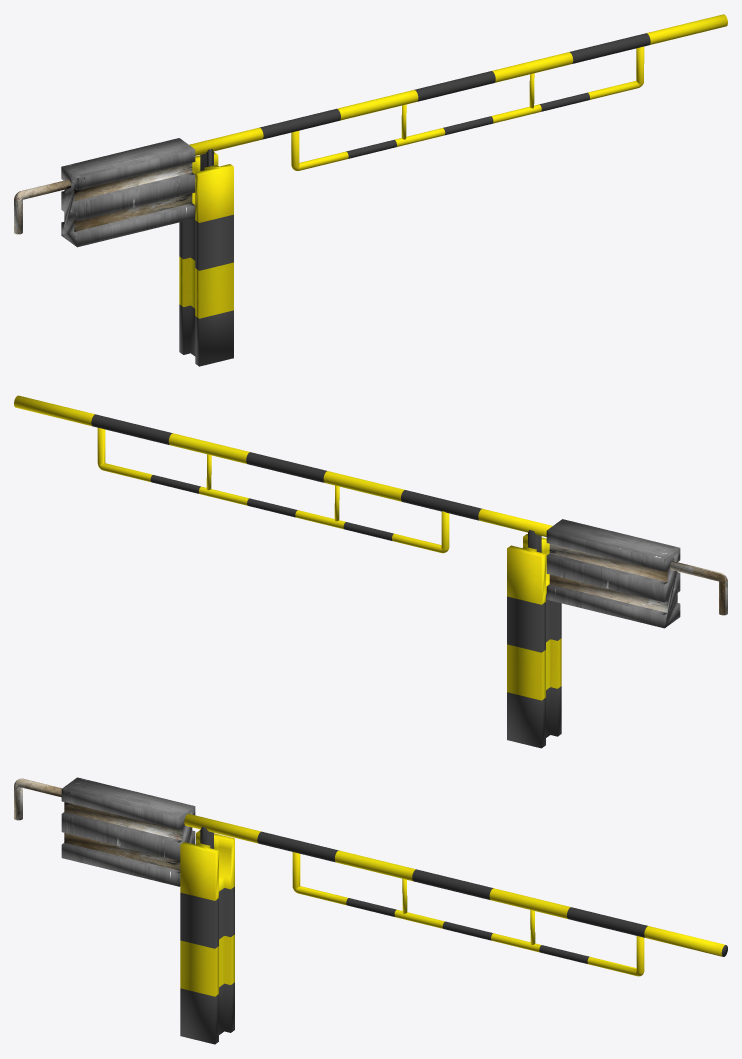
File: Cancela 02 - 1.fbx
The picture shows the model from 3 angles, top to bottom: view 1: azimuth 30°, elevation 25°; view 2: azimuth 150°, elevation 25°; view 3: azimuth 330°, elevation 25°; orthographic projection.
Parts seen in each view (by area): view 1: Plano.225; view 2: Plano.225; view 3: Plano.225.
Boxes of the visible parts, <box> form: Plano.225: <box>14,14,727,366</box>; Plano.225: <box>14,395,727,748</box>; Plano.225: <box>14,777,727,1044</box>.
Bounding box in the file's own units: 641 × 187 × 31.41.
Materials: 7 (5 with a texture image).
